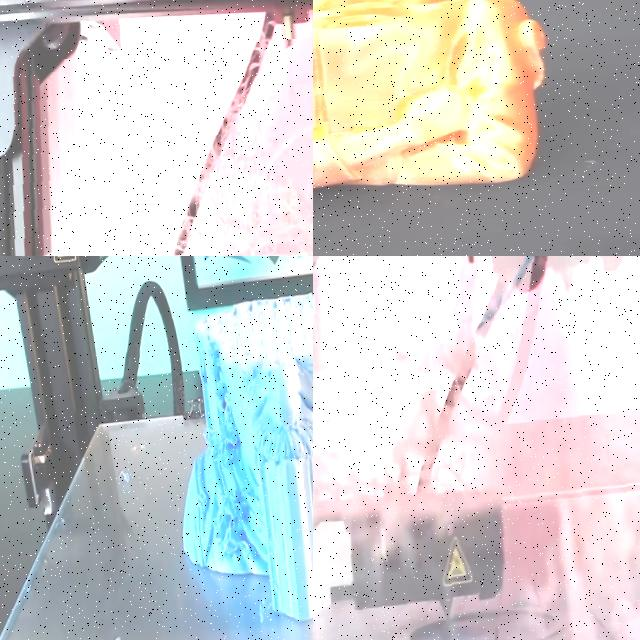spaghetti: (313, 256, 640, 640), (0, 16, 313, 256)
